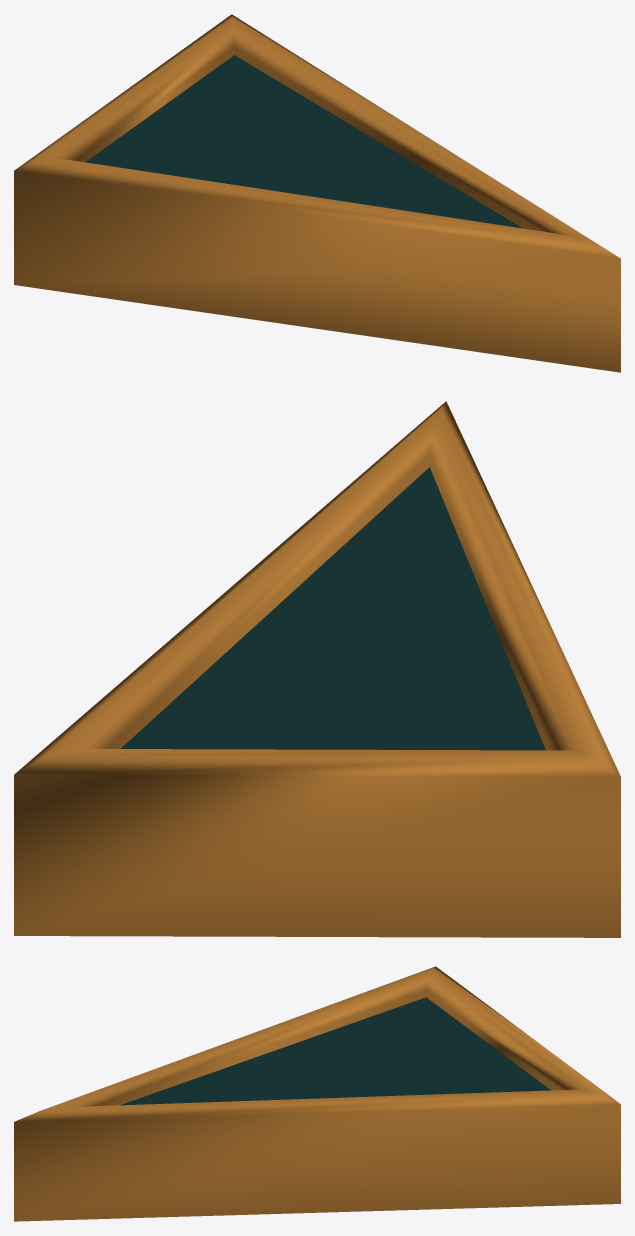
File: laser-plastics.dae
3 renders of one model, top to bottom at view 1: azimuth 30°, elevation 25°; view 2: azimuth 150°, elevation 25°; view 3: azimuth 270°, elevation 25°, orthographic. The views are drawn at different scales.
Visible parts, largest first — view 1: accent, block_art; view 2: accent, block_art; view 3: accent, block_art.
Part boxes in pixels (<box>): accent: <box>14,14,620,372</box>; block_art: <box>85,55,522,228</box>; accent: <box>14,401,620,937</box>; block_art: <box>121,467,545,750</box>; accent: <box>14,966,620,1221</box>; block_art: <box>120,997,550,1105</box>.
Size of the model in its own units: 0.0871 by 0.0276 by 0.1435.
